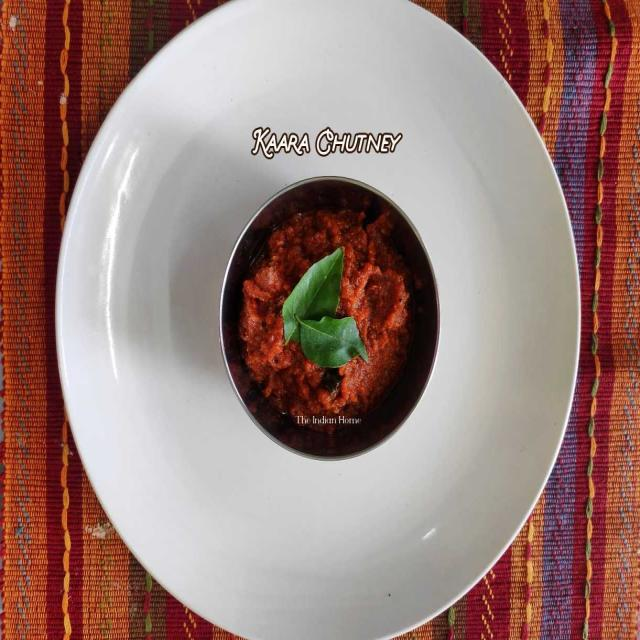kaara chutney: (225, 196, 420, 437)
